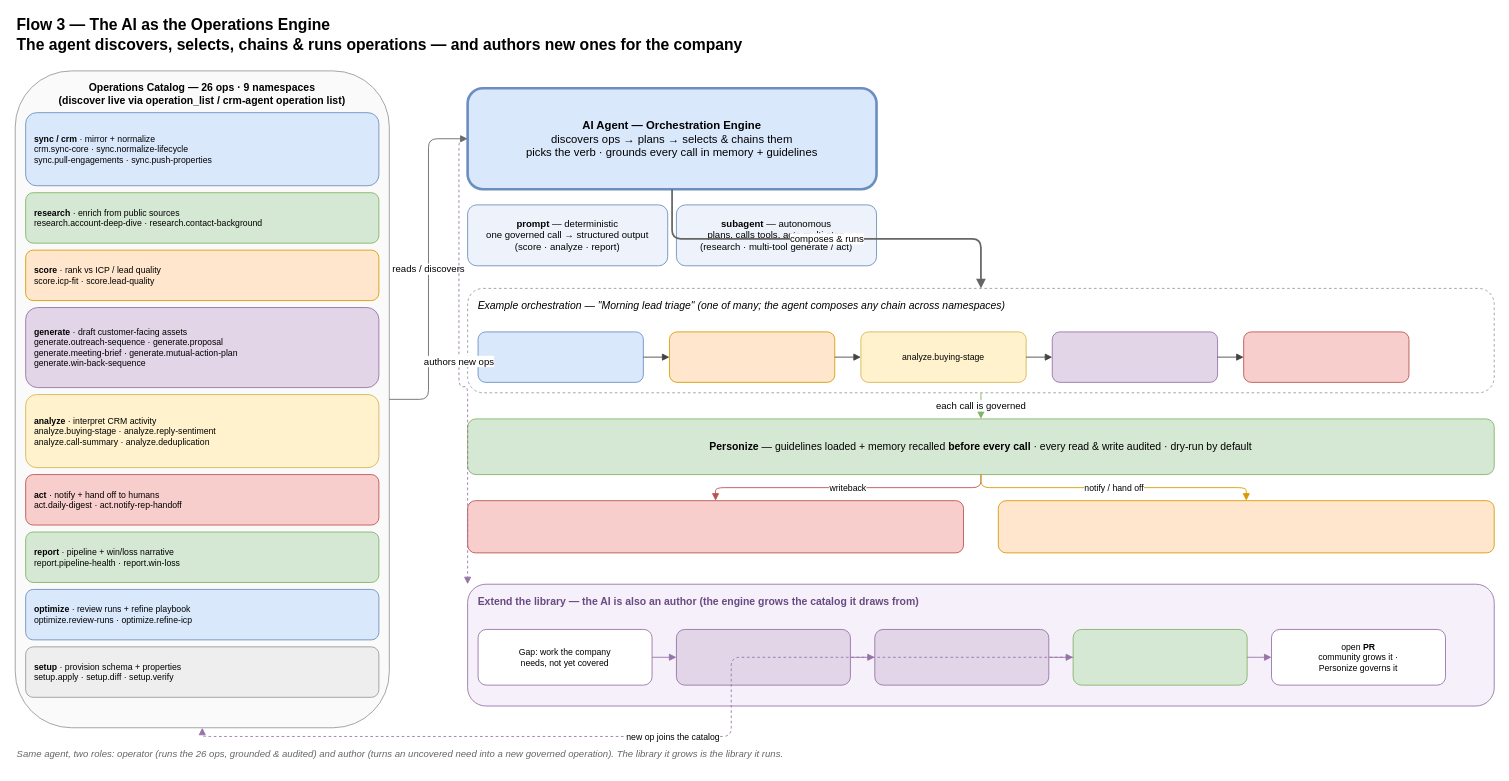
Some shapes in this 1509 by 781 pixel diagram are drawn without their labels. The centre of each missing label's shape, as x and y in pixels:
"act.daily-digest" belongs at (x=1326, y=356).
"CRM (HubSpot / Salesforce) personize_* writeback" belongs at (x=715, y=526).
"generate.meeting-brief" belongs at (x=1134, y=356).
"Human (RevOps / AE) digests & handoffs (Slack / email)" belongs at (x=1245, y=526).
"idea description only" belongs at (x=763, y=657).
"live tested, production-ready" belongs at (x=1159, y=657).
"scaffold structure + frontmatter spec" belongs at (x=961, y=657).
"score.icp-fit" belongs at (x=752, y=356).
"sync.pull-engagements" belongs at (x=560, y=356).
